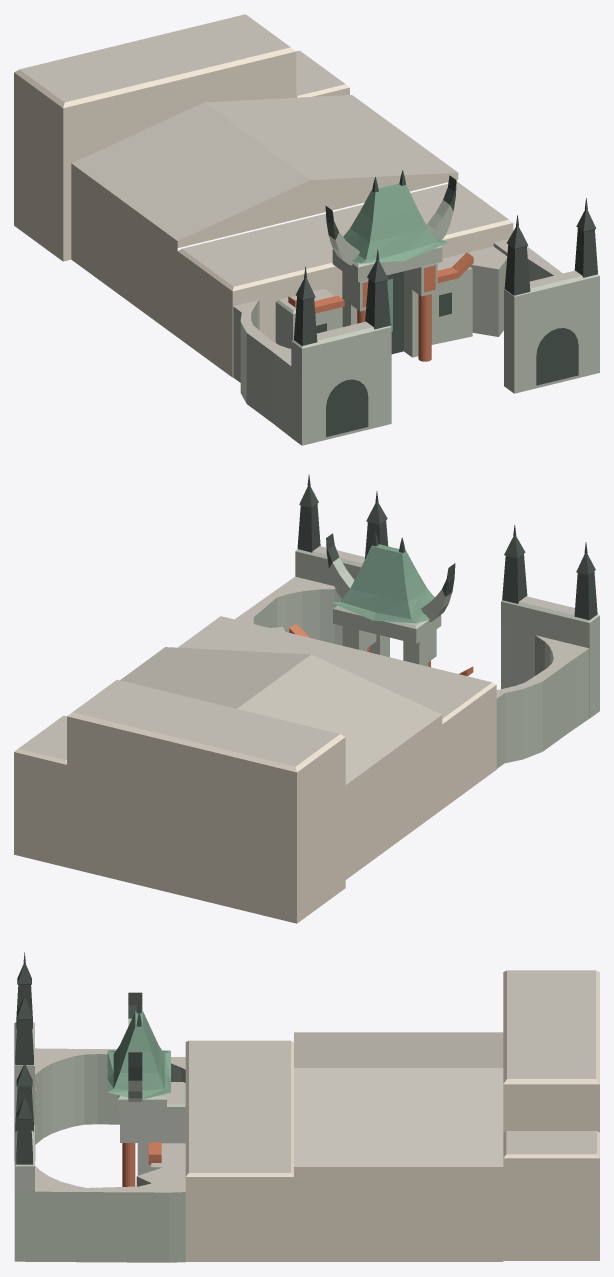
Rendered from detail.glb.
3 views of the same model, one above another, from view 1: azimuth 30°, elevation 25°; view 2: azimuth 150°, elevation 25°; view 3: azimuth 270°, elevation 25° (orthographic).
Parts seen in each view (by area): view 1: tcl-chinese-theatre; view 2: tcl-chinese-theatre; view 3: tcl-chinese-theatre.
Part boxes in pixels (<box>): tcl-chinese-theatre: <box>14,14,599,445</box>; tcl-chinese-theatre: <box>14,474,599,923</box>; tcl-chinese-theatre: <box>14,952,599,1262</box>.
Bounding box in the file's own units: 44.08 × 26.5 × 75.68.
